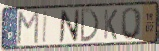D: (79, 7, 100, 43)
I: (42, 10, 49, 45)
K: (102, 8, 119, 41)
M: (15, 10, 40, 46)
N: (58, 9, 81, 44)
O: (120, 6, 143, 41)
